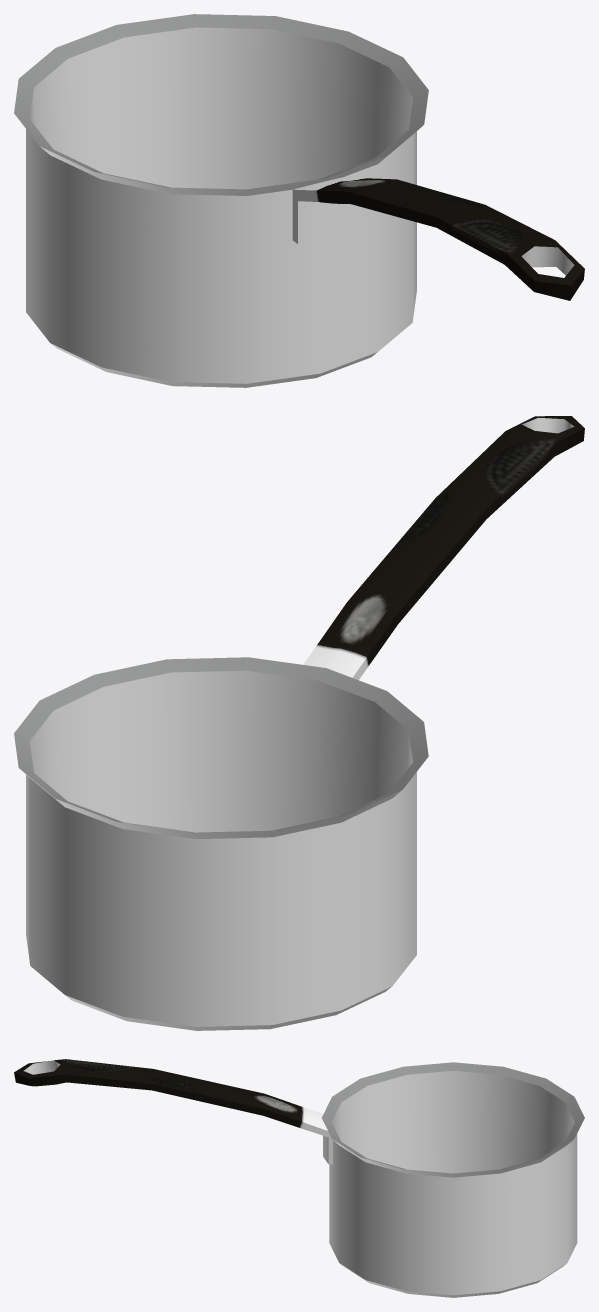
The model's file is Product_pan02.FBX.
3 views of the same model, one above another, from view 1: azimuth 30°, elevation 25°; view 2: azimuth 150°, elevation 25°; view 3: azimuth 270°, elevation 25° (orthographic). The views are drawn at different scales.
Visible parts, largest first — view 1: product_pan02_LOD00; view 2: product_pan02_LOD00; view 3: product_pan02_LOD00.
Part boxes in pixels (x1,y1,x2,y2): product_pan02_LOD00: (14, 14, 584, 387); product_pan02_LOD00: (14, 416, 584, 1030); product_pan02_LOD00: (14, 1059, 584, 1297).
Size of what is drawn, in the model's own units: 0.1671 by 0.1281 by 0.3624.
